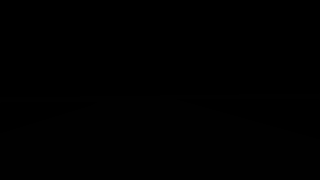turn_left: (171, 68, 181, 79)
